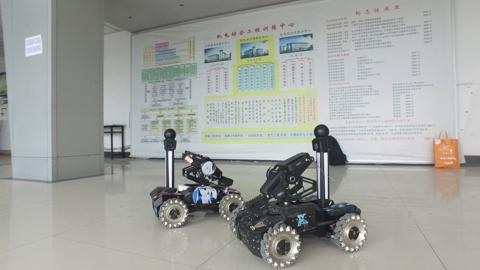chariot: (229, 116, 368, 267), (146, 127, 242, 233)
